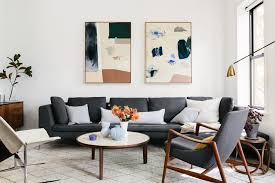Chair: (159, 100, 253, 183), (0, 114, 63, 183)
Sofa: (33, 90, 238, 141)
Table: (73, 128, 154, 178)
